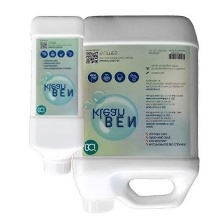cleaning_solution: (70, 12, 203, 215), (24, 11, 87, 177)
